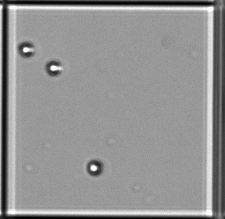Living Cell: (19, 41, 35, 57), (45, 60, 61, 76), (87, 160, 101, 176)
